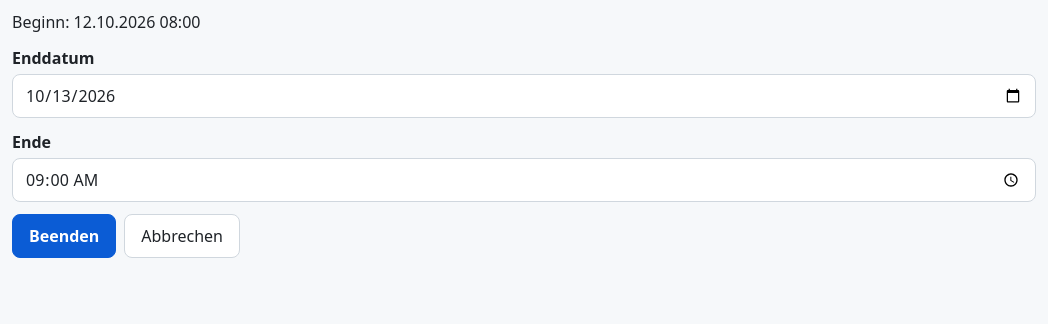
EntryForm: resolve mode › rejects an end that overlaps a later day entry
Expected: the button "Beenden" is enabled, [12,214,116,258]
Type "2026-10-15" into the date field labelled "Enddatum" at {"x": 524, "y": 96}, box [12,74,1036,118]
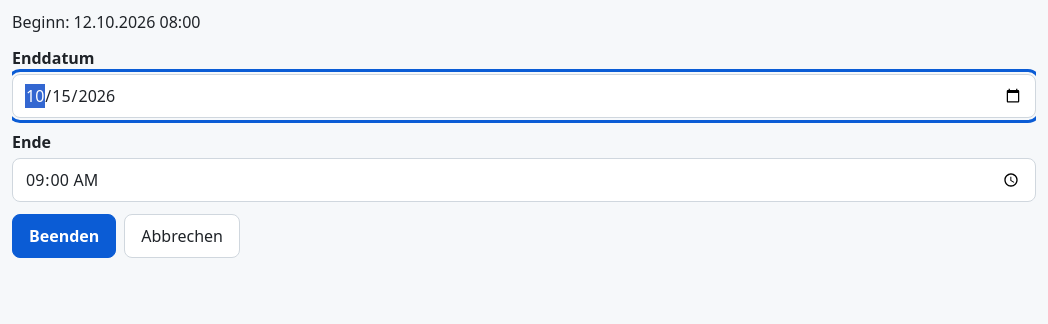
Click the button "Beenden" at {"x": 64, "y": 236}, box [12,214,116,258]
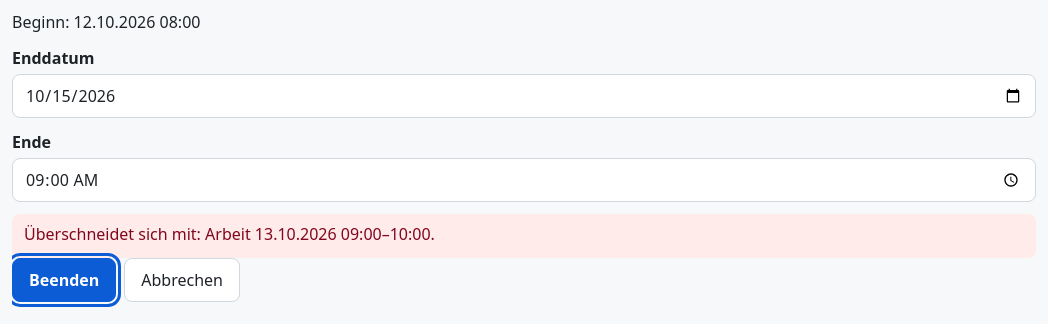
Expected: the message reads "Überschneidet sich mit: Arbeit 13.10.2026 09:00–10:00.", [24,223,435,245]
